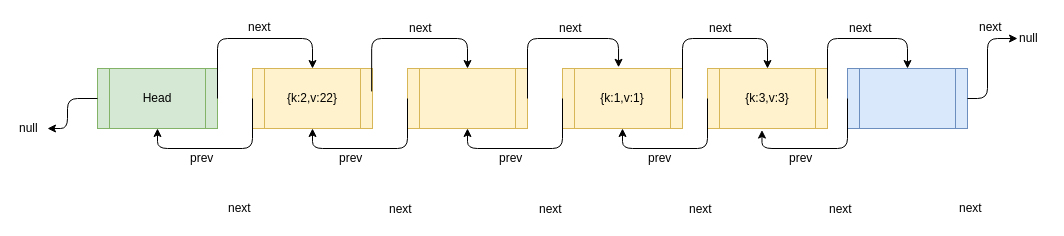
This 1064x236 diagram has some shape labels left out. The shapes that lost their labels are listed below. From the top down, each one's centre as x and y in pixels, then its label:
At (x=467, y=98): "{k:4,v:4}".
At (x=907, y=98): "Tail".
